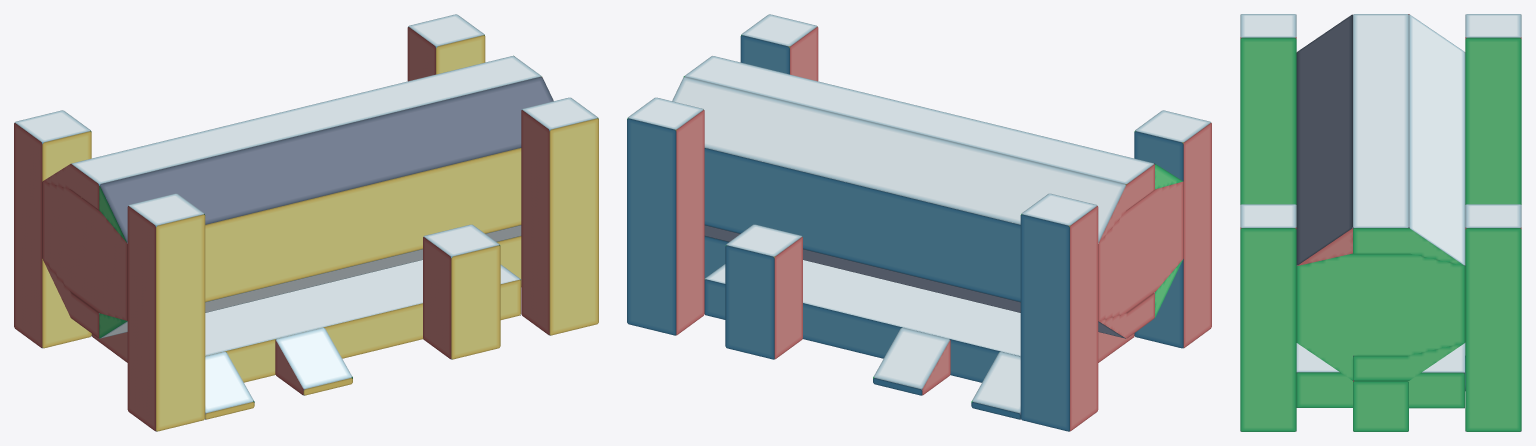
File: trommel.obj
3 views of the same model, side by side, from view 1: azimuth 30°, elevation 25°; view 2: azimuth 150°, elevation 25°; view 3: azimuth 270°, elevation 25° (orthographic).
Parts seen in each view (by area): view 1: trommel; view 2: trommel; view 3: trommel.
Boxes of the visible parts, left/top/right/bottom form: trommel: left=14, top=14, right=598, bottom=431; trommel: left=627, top=14, right=1211, bottom=431; trommel: left=1240, top=14, right=1521, bottom=431.
Bounding box in the file's own units: 9 × 4 × 5.
